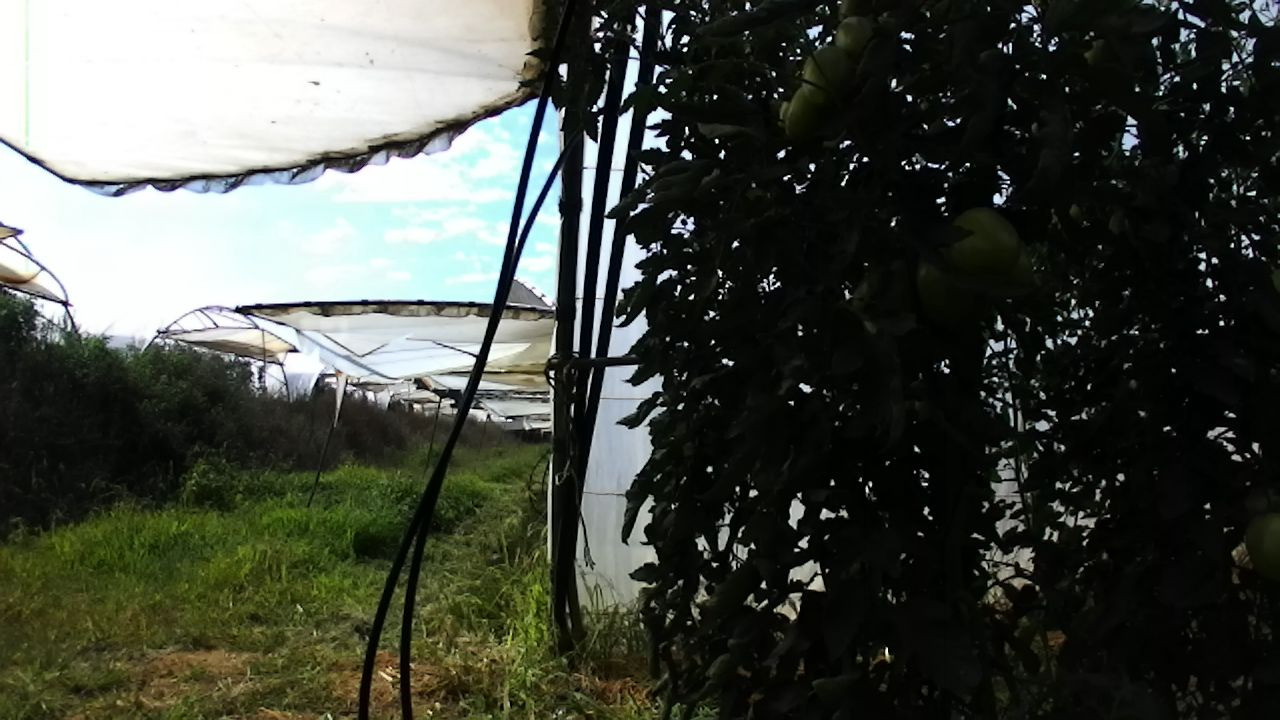tomato: (941, 200, 1021, 276), (1237, 504, 1280, 582)
